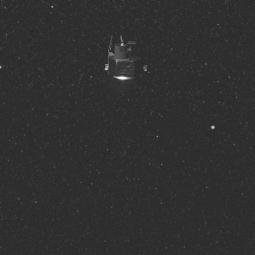earth_observation_sat_1: (98, 30, 149, 100)
